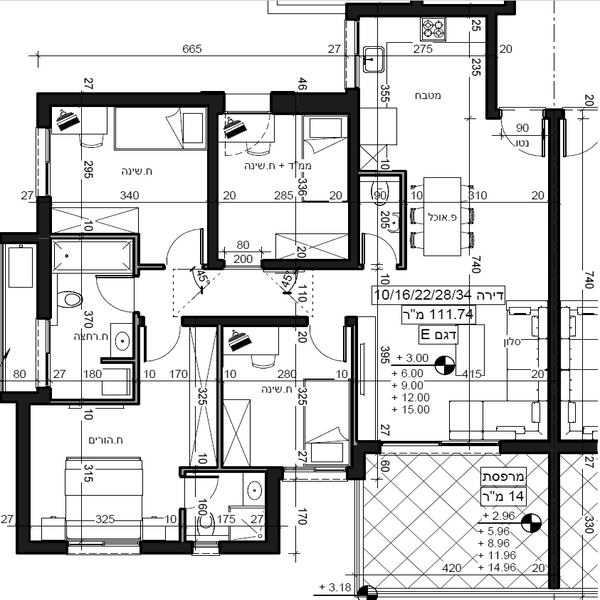door: (502, 104, 555, 164), (161, 229, 209, 274), (95, 271, 143, 315), (139, 320, 181, 368), (360, 228, 402, 270)
room: (338, 102, 568, 460), (2, 380, 290, 562), (32, 87, 224, 275), (200, 86, 357, 273), (217, 314, 359, 480), (337, 1, 502, 114)
wall: (547, 107, 568, 451), (30, 88, 227, 114), (9, 390, 36, 556), (204, 95, 227, 271), (345, 115, 367, 267), (543, 446, 566, 588), (176, 310, 313, 333), (343, 2, 513, 19), (257, 460, 288, 552), (212, 324, 231, 470), (267, 92, 362, 117), (37, 196, 56, 319), (265, 252, 350, 275), (481, 13, 497, 120), (216, 532, 282, 557), (506, 440, 597, 457), (139, 537, 188, 556), (31, 534, 67, 558), (1, 229, 37, 246), (354, 441, 387, 457)
window: (385, 437, 504, 463), (33, 316, 56, 387), (288, 457, 347, 484), (342, 19, 363, 91), (66, 534, 139, 554), (33, 124, 52, 196), (191, 540, 222, 556)
